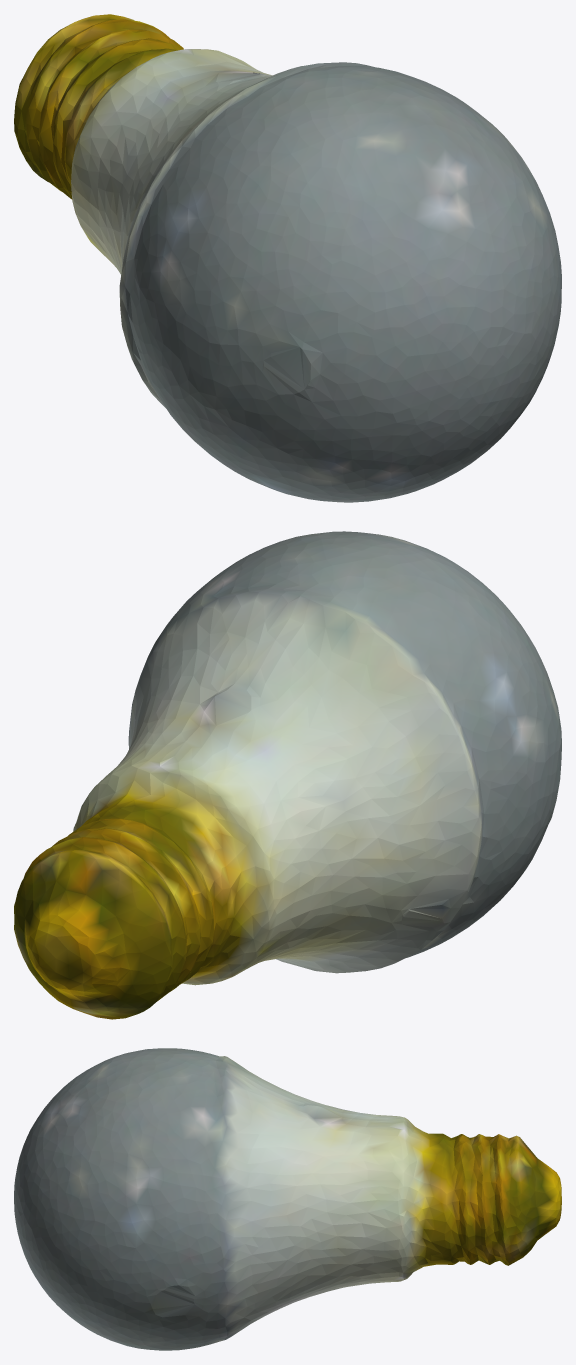
The model's file is scan.obj.
3 renders of one model, top to bottom at view 1: azimuth 30°, elevation 25°; view 2: azimuth 150°, elevation 25°; view 3: azimuth 270°, elevation 25°, orthographic. The views are drawn at different scales.
Visible parts, largest first — view 1: scan.ply; view 2: scan.ply; view 3: scan.ply.
Part boxes in pixels (x1=…): scan.ply: x1=14, y1=14, x2=561, y2=502; scan.ply: x1=14, y1=531, x2=561, y2=1019; scan.ply: x1=14, y1=1048, x2=561, y2=1350.
Size of the model in its own units: 0.0589 by 0.0592 by 0.1074.
